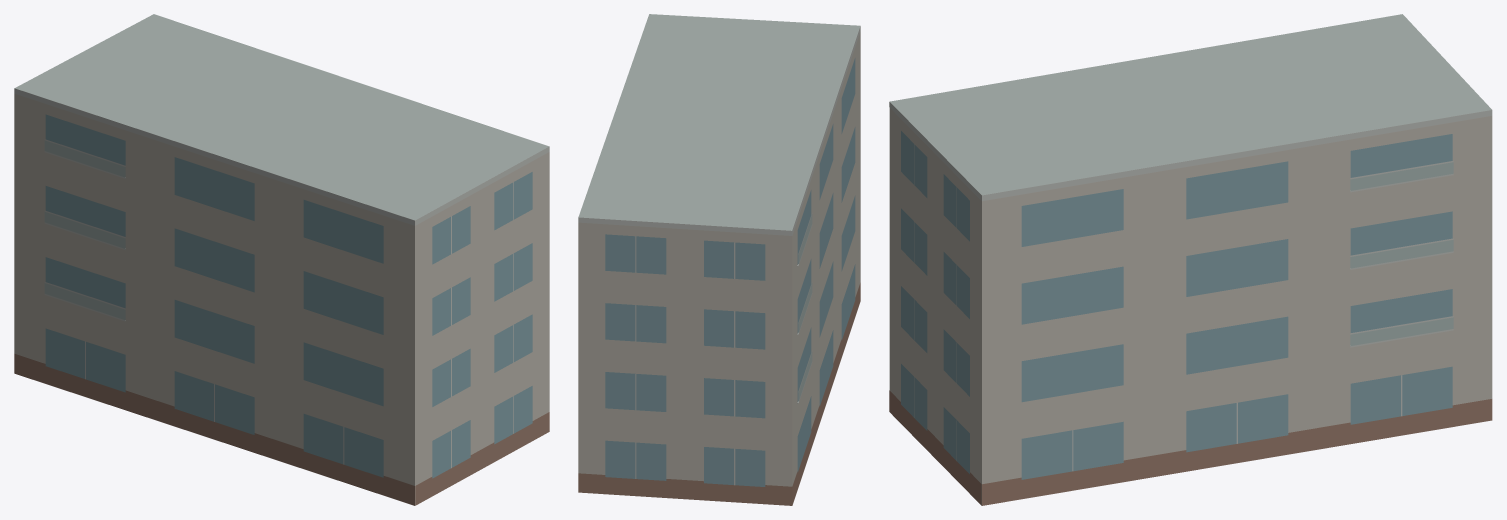
Rendered from survey-upis-32757887.glb.
3 renders of one model, left to right at view 1: azimuth 30°, elevation 25°; view 2: azimuth 150°, elevation 25°; view 3: azimuth 270°, elevation 25°, orthographic. The views are drawn at different scales.
Visible parts, largest first — view 1: survey-upis-32757887.tmp; view 2: survey-upis-32757887.tmp; view 3: survey-upis-32757887.tmp.
Boxes of the visible parts, left/top/right/bottom form: survey-upis-32757887.tmp: left=14, top=14, right=549, bottom=505; survey-upis-32757887.tmp: left=578, top=14, right=860, bottom=505; survey-upis-32757887.tmp: left=889, top=14, right=1492, bottom=505.
Bounding box in the file's own units: 16.31 × 13 × 22.89.
